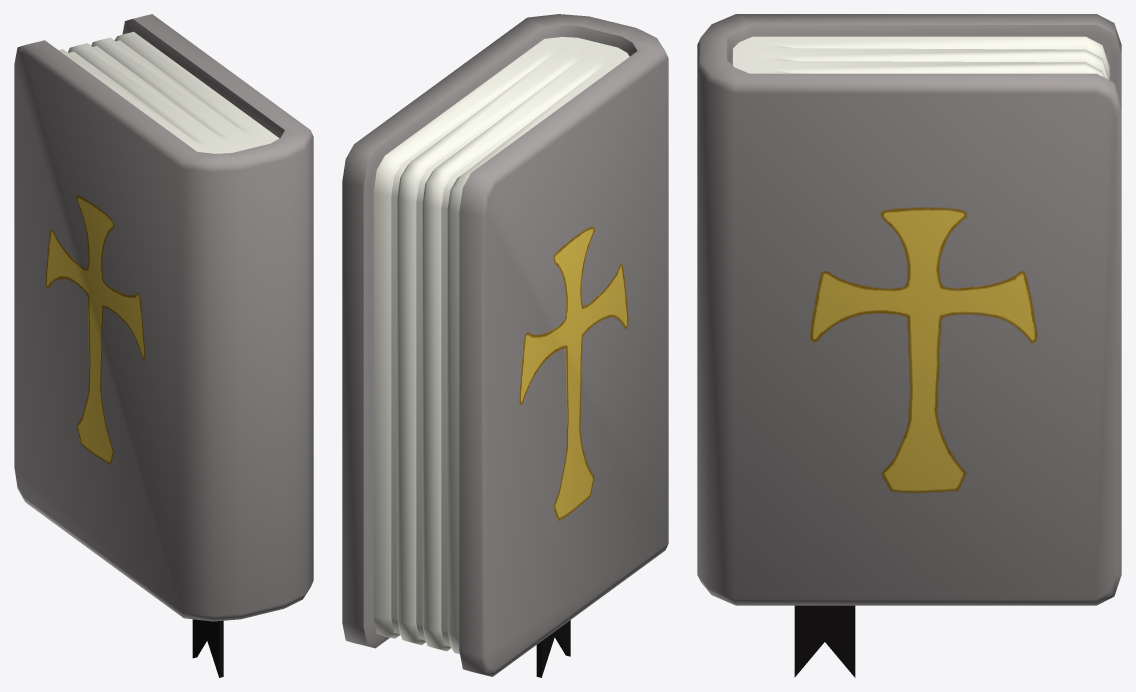
File: BookSS.fbx
3 views of the same model, side by side, from view 1: azimuth 30°, elevation 25°; view 2: azimuth 150°, elevation 25°; view 3: azimuth 270°, elevation 25° (orthographic). The views are drawn at different scales.
Parts seen in each view (by area): view 1: Book SS; view 2: Book SS; view 3: Book SS.
Part boxes in pixels (box(x1,y1,x2,y2)): Book SS: box(14, 14, 313, 677); Book SS: box(342, 14, 668, 677); Book SS: box(697, 14, 1121, 677).
Size of the model in its own units: 0.2134 by 0.8547 by 0.524.
